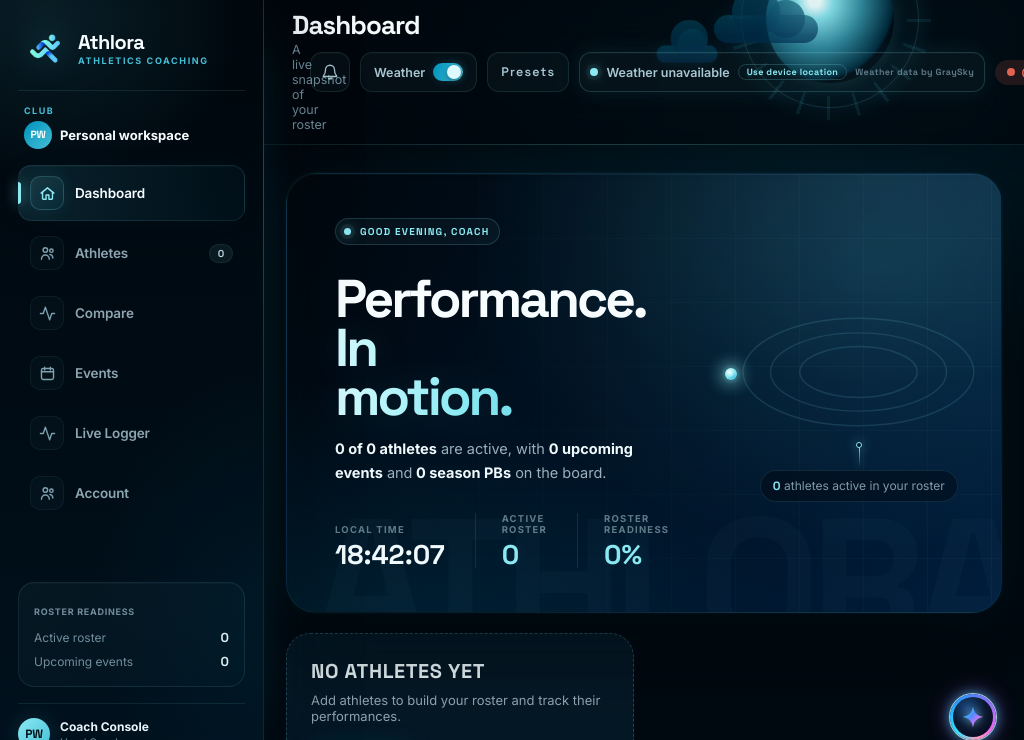
Scenario: App › renders the API-backed console for an authenticated coach
The width and height of the screenshot is (1024, 740).
Expected: the heading "Performance. In motion." is shown, x1=335 y1=275 x2=628 y2=422
Click the button "Athletes 0".
click(132, 253)  # box x1=18 y1=225 x2=245 y2=281
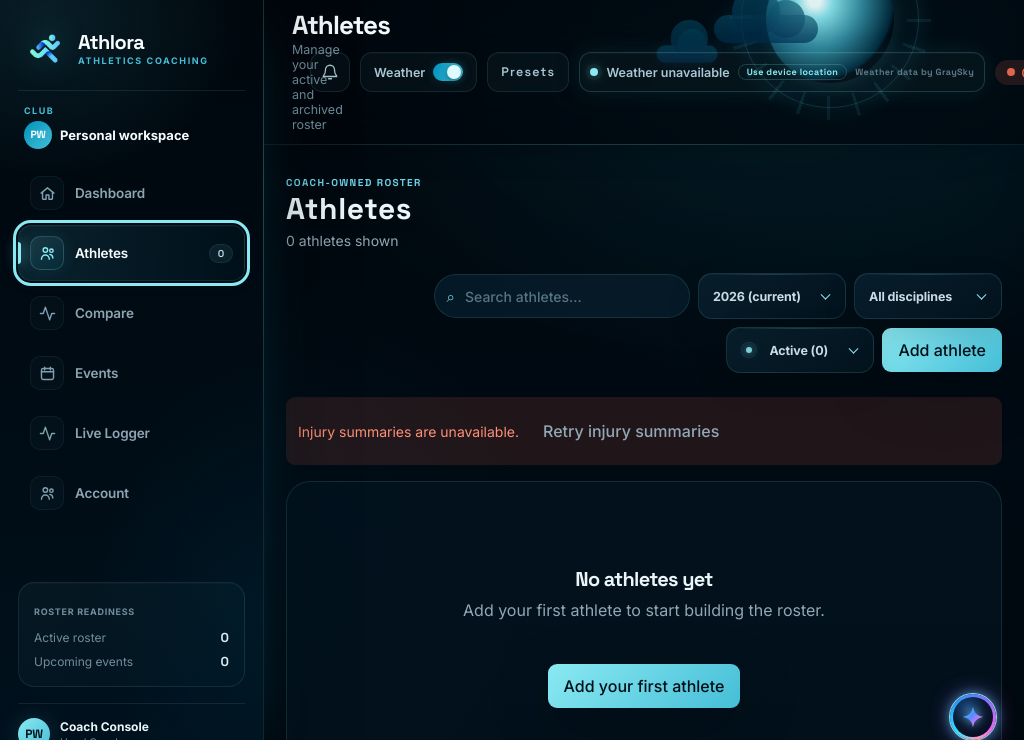
Click the button "Add athlete".
click(942, 350)  # box x1=882 y1=328 x2=1002 y2=372
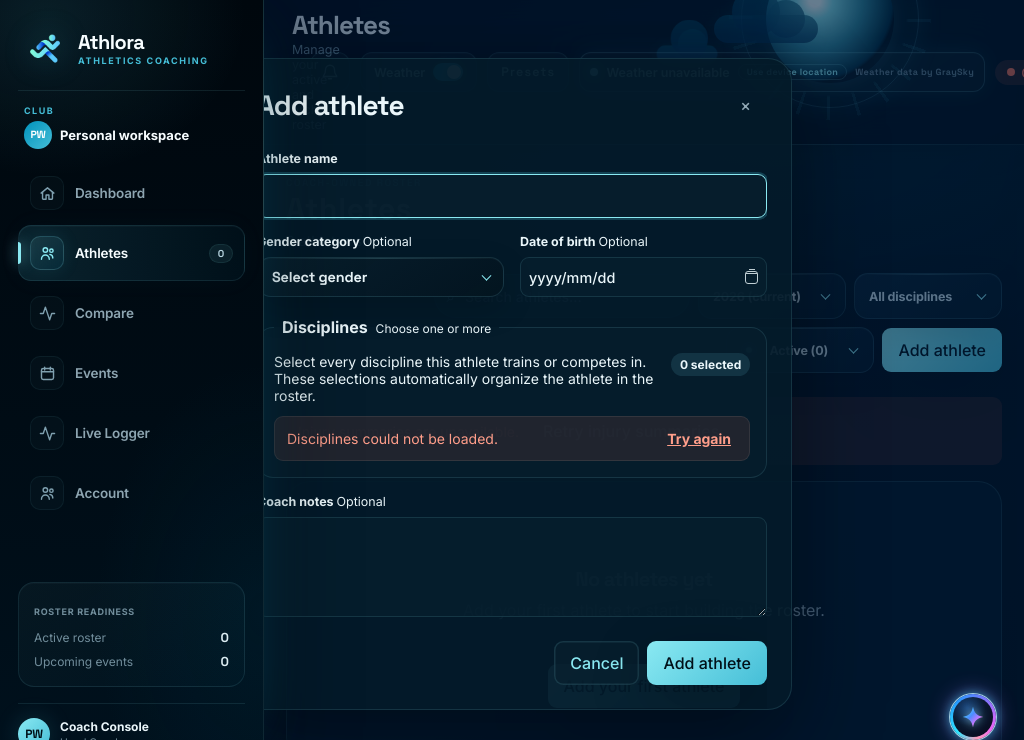
Result: the dialog "Add athlete" is shown at x1=232 y1=58 x2=792 y2=710
